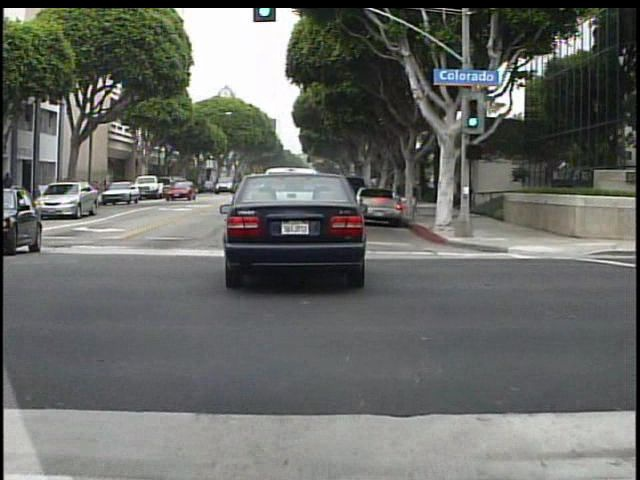person: (3, 169, 20, 209)
